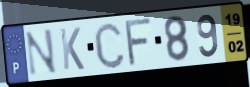8: (163, 14, 191, 64)
9: (196, 13, 220, 59)
C: (92, 20, 127, 70)
F: (124, 16, 155, 69)
K: (58, 26, 86, 72)
N: (24, 27, 59, 78)
